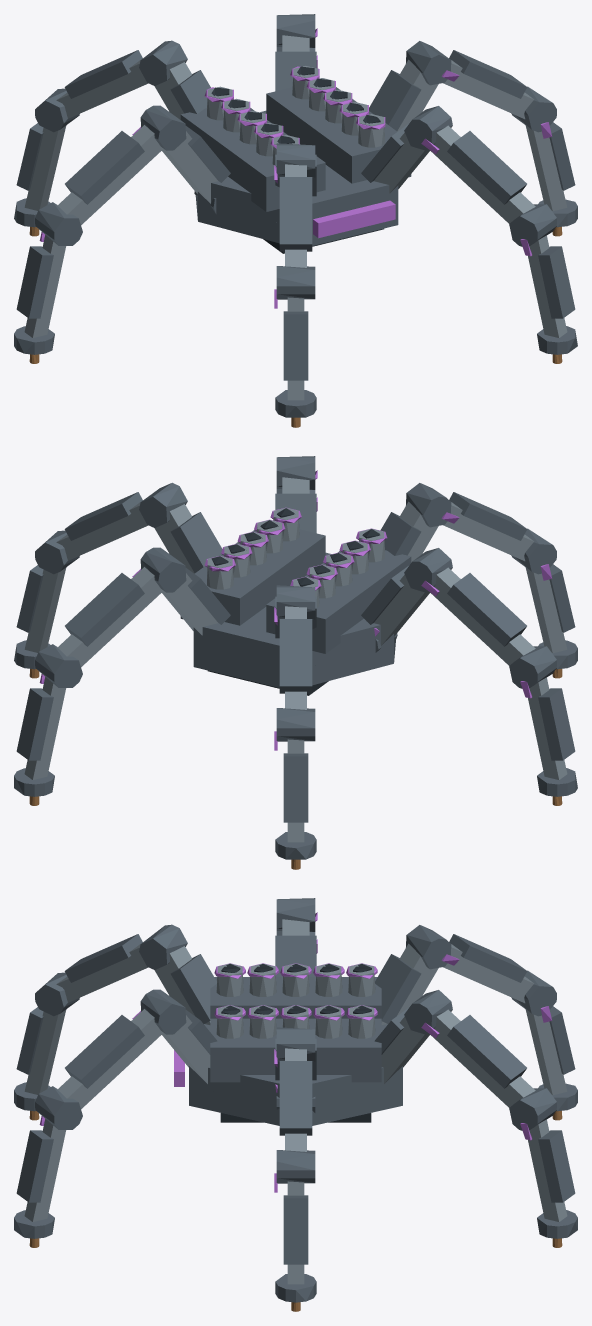
File: heptapod_a6_t3_d0.meshopt.glb
3 views of the same model, one above another, from view 1: azimuth 30°, elevation 25°; view 2: azimuth 150°, elevation 25°; view 3: azimuth 270°, elevation 25° (orthographic).
Parts seen in each view (by area): view 1: ROOT_ARMOR_GEOMETRY; view 2: ROOT_ARMOR_GEOMETRY; view 3: ROOT_ARMOR_GEOMETRY.
Boxes of the visible parts, x1,y1,x2,y2 form: ROOT_ARMOR_GEOMETRY: (14, 14, 577, 427); ROOT_ARMOR_GEOMETRY: (14, 456, 577, 869); ROOT_ARMOR_GEOMETRY: (14, 898, 577, 1311).
Size of the model in its own units: 4.7 by 1.75 by 4.11.
